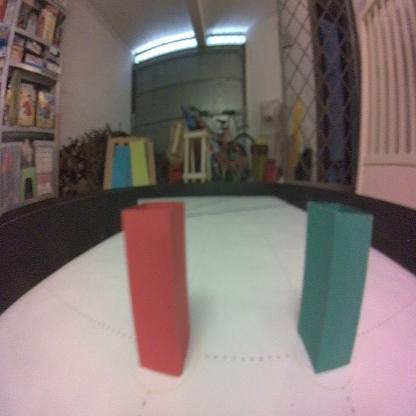green: (296, 201, 374, 376)
red: (120, 200, 191, 380)
